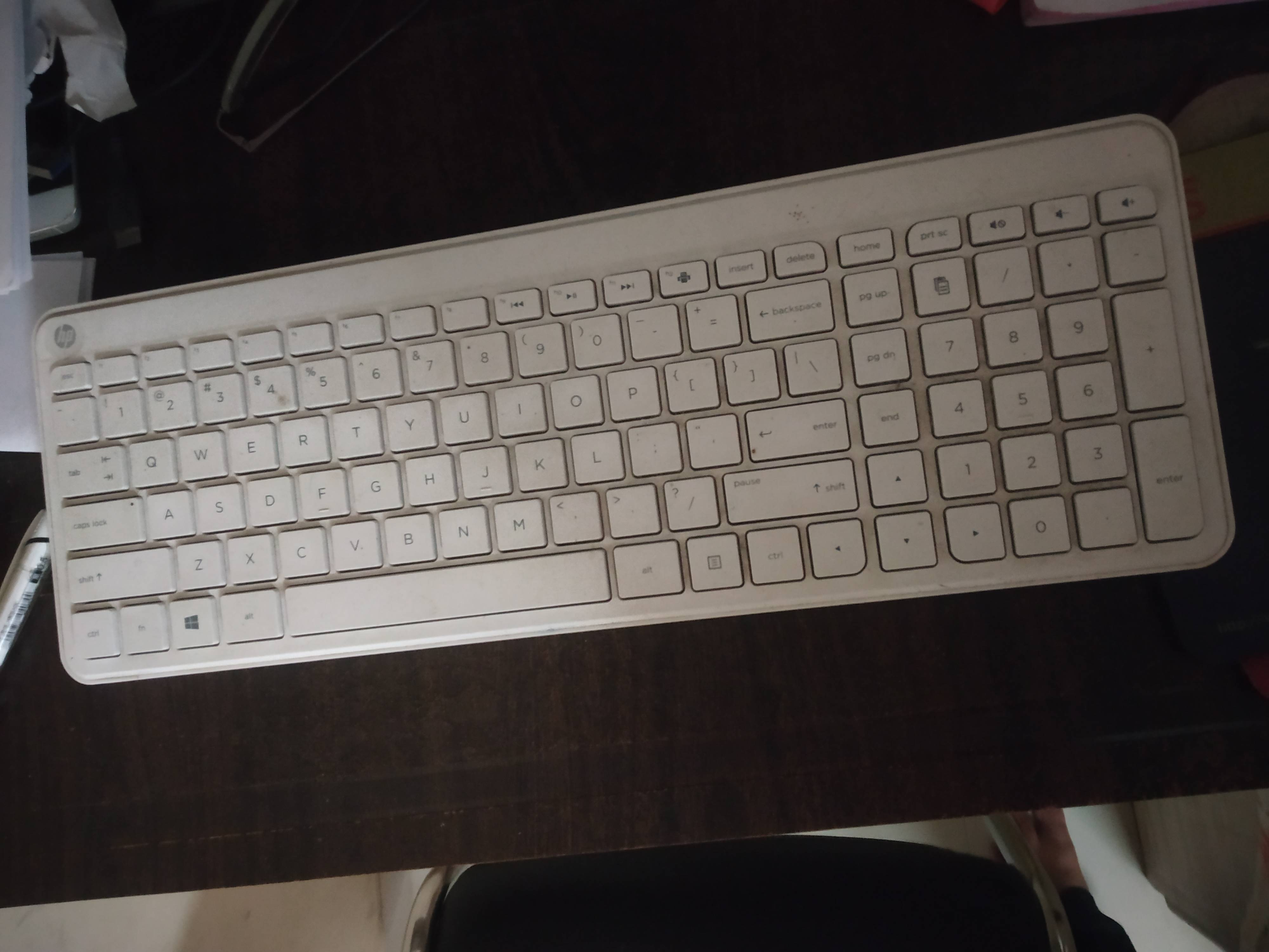Electronics: (27, 98, 1249, 708)
